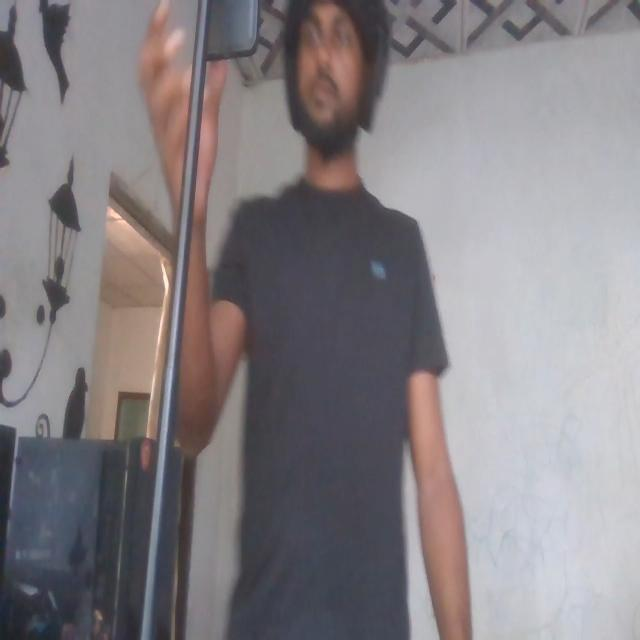Helmet_Wearer: (266, 0, 398, 206)
Person: (169, 0, 469, 640)
